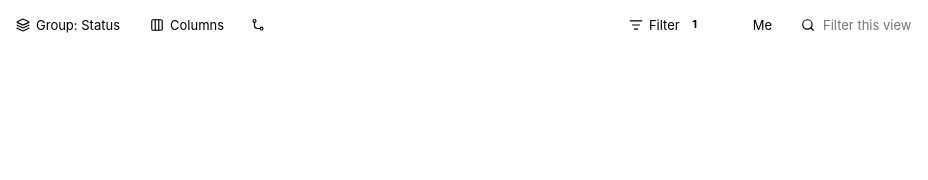
Toolbar page actions › Subtasks button › explains each mode with the hint Separate rows, grouped on their own
This screenshot has width=928, height=180.
Click the button named "Subtasks: Hidden".
click(258, 25)  # box [243,10,273,40]
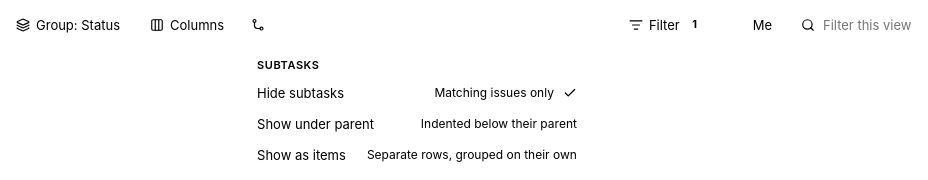
expect the text "Separate rows, grouped on their own" is shown: met, box [367,147,577,164]
